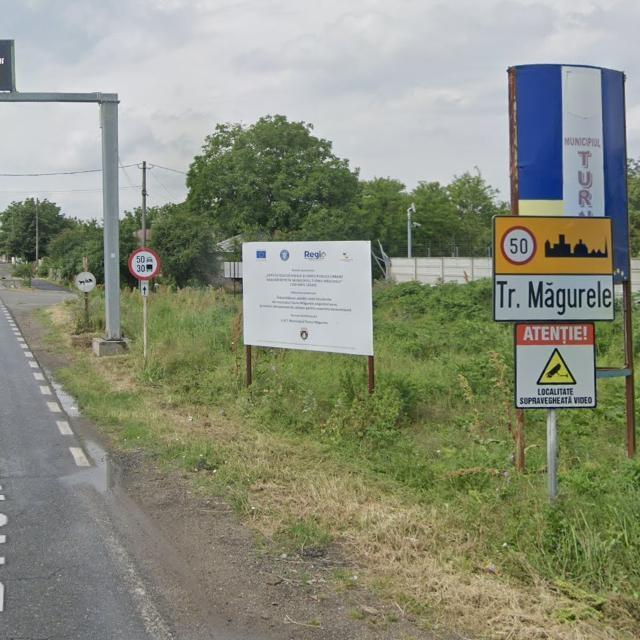forb_speed_over_50: (501, 225, 537, 265)
